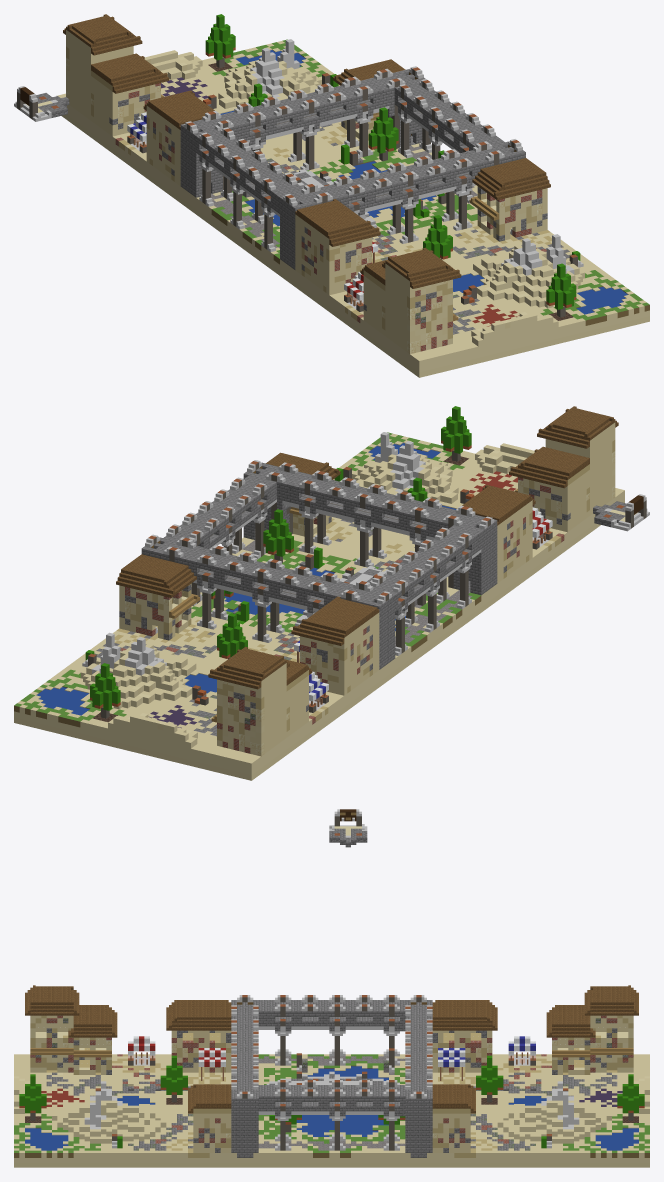
File: minecraft.obj
3 renders of one model, top to bottom at view 1: azimuth 30°, elevation 25°; view 2: azimuth 150°, elevation 25°; view 3: azimuth 270°, elevation 25°, orthographic. The views are drawn at different scales.
Bounding box in the file's own units: 81 × 35 × 117.
